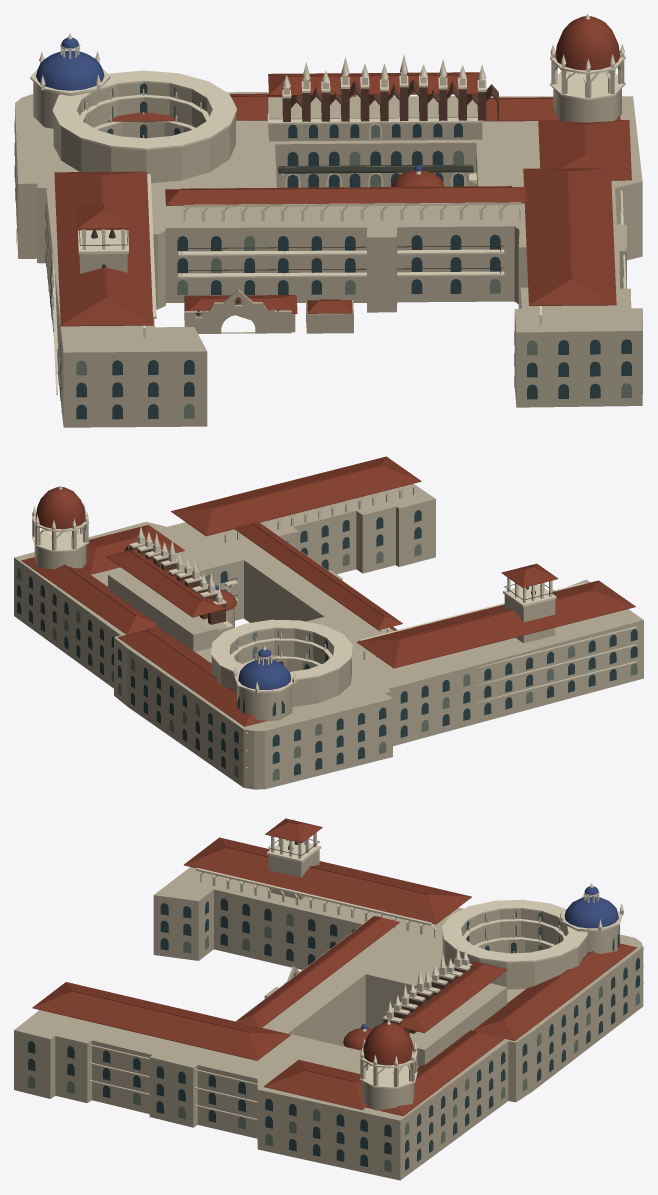
Rendered from mission-inn-far.glb.
The picture shows the model from 3 angles, top to bottom: view 1: azimuth 30°, elevation 25°; view 2: azimuth 150°, elevation 25°; view 3: azimuth 270°, elevation 25°; orthographic projection. The views are drawn at different scales.
Parts seen in each view (by area): view 1: mission-inn-0-stone, mission-inn-0-roof, mission-inn-0-trim, mission-inn-0-glass, mission-inn-0-masonry, mission-inn-0-iron, mission-inn-0-tile, mission-inn-0-glow; view 2: mission-inn-0-stone, mission-inn-0-roof, mission-inn-0-trim, mission-inn-0-glass, mission-inn-0-glow, mission-inn-0-tile, mission-inn-0-masonry; view 3: mission-inn-0-stone, mission-inn-0-roof, mission-inn-0-trim, mission-inn-0-glass, mission-inn-0-glow, mission-inn-0-tile, mission-inn-0-masonry.
Part boxes in pixels (x1=…): mission-inn-0-stone: x1=15, y1=60, x2=642, y2=427; mission-inn-0-roof: x1=54, y1=16, x2=631, y2=326; mission-inn-0-trim: x1=30, y1=14, x2=626, y2=394; mission-inn-0-glass: x1=14, y1=83, x2=631, y2=419; mission-inn-0-masonry: x1=282, y1=80, x2=498, y2=121; mission-inn-0-iron: x1=79, y1=164, x2=503, y2=315; mission-inn-0-tile: x1=36, y1=37, x2=422, y2=171; mission-inn-0-glow: x1=14, y1=124, x2=631, y2=418; mission-inn-0-stone: x1=14, y1=483, x2=643, y2=789; mission-inn-0-roof: x1=21, y1=456, x2=635, y2=726; mission-inn-0-trim: x1=32, y1=484, x2=636, y2=768; mission-inn-0-glass: x1=17, y1=510, x2=637, y2=775; mission-inn-0-glow: x1=17, y1=544, x2=637, y2=780; mission-inn-0-tile: x1=215, y1=585, x2=290, y2=689; mission-inn-0-masonry: x1=124, y1=545, x2=225, y2=624; mission-inn-0-stone: x1=14, y1=849, x2=643, y2=1180; mission-inn-0-roof: x1=32, y1=818, x2=637, y2=1116; mission-inn-0-trim: x1=89, y1=832, x2=643, y2=1120; mission-inn-0-glass: x1=28, y1=898, x2=639, y2=1170; mission-inn-0-glow: x1=28, y1=912, x2=639, y2=1172; mission-inn-0-tile: x1=361, y1=886, x2=618, y2=1028; mission-inn-0-masonry: x1=381, y1=968, x2=469, y2=1034.
Size of the model in its own units: 134 by 32.6 by 134.
